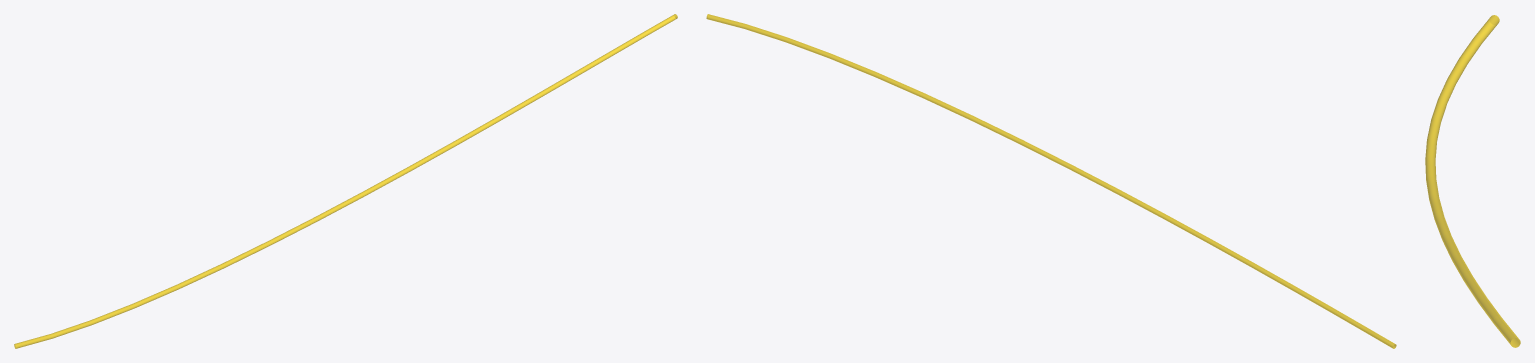
File: Event_40932208_track_42.fbx
The picture shows the model from 3 angles, left to right: view 1: azimuth 30°, elevation 25°; view 2: azimuth 150°, elevation 25°; view 3: azimuth 270°, elevation 25°; orthographic projection. The views are drawn at different scales.
Parts seen in each view (by area): view 1: Model; view 2: Model; view 3: Model.
Boxes of the visible parts, bbox=[...] form: Model: bbox=[14, 14, 677, 348]; Model: bbox=[706, 14, 1396, 348]; Model: bbox=[1425, 15, 1520, 347].
Size of the model in its own units: 5.97 by 1.44 by 0.3697.
